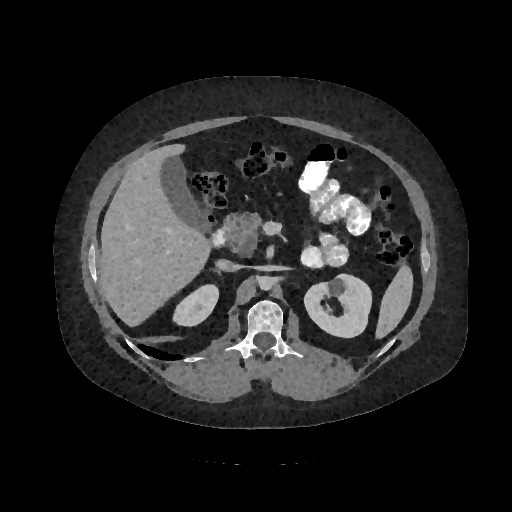Lesion: (322, 275, 352, 304)
